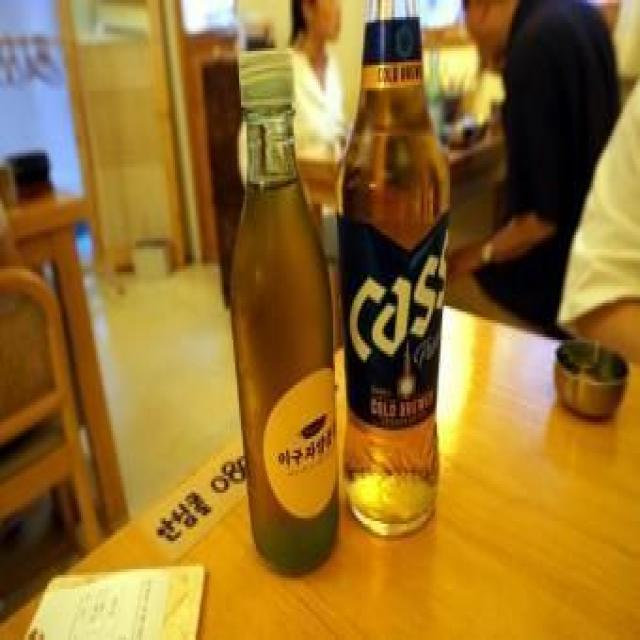beer-bottle: (333, 0, 446, 547)
